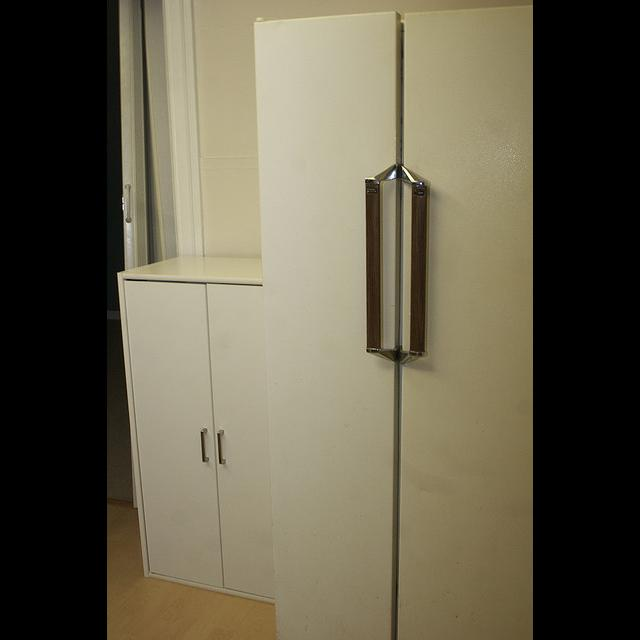Refrigerator: (255, 9, 531, 635)
